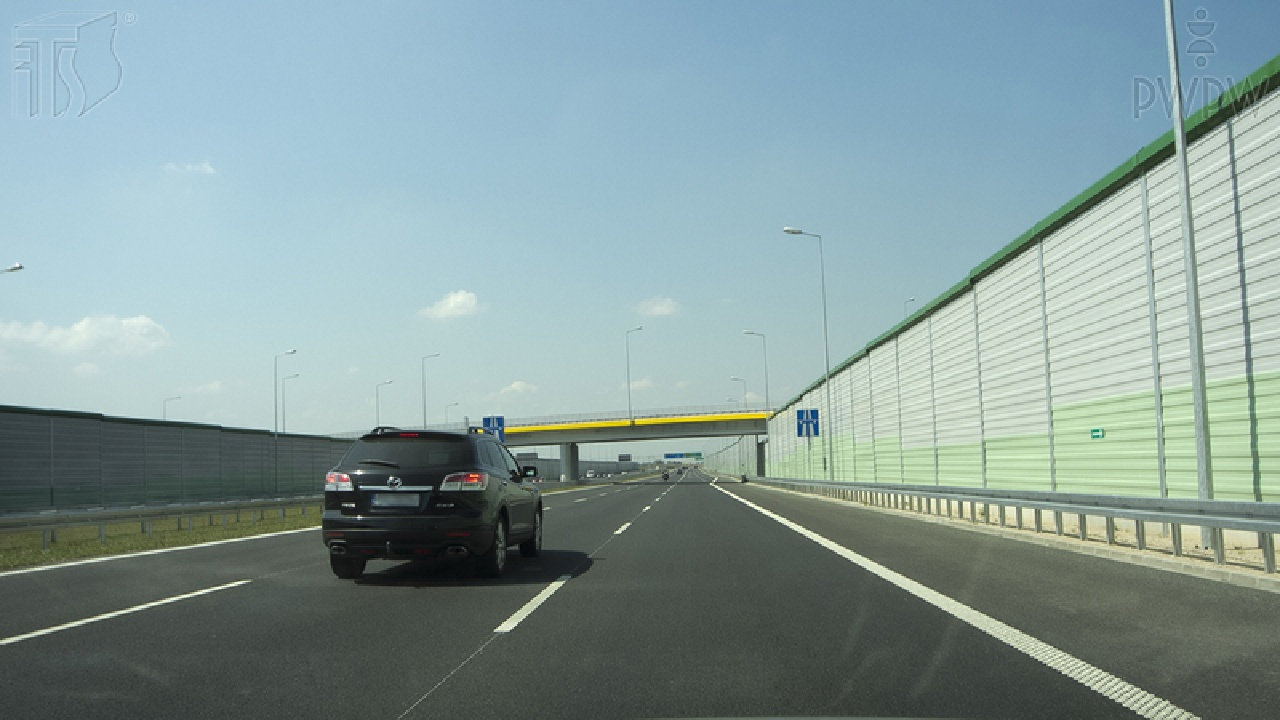D9: (797, 410, 819, 437), (483, 417, 504, 442)
